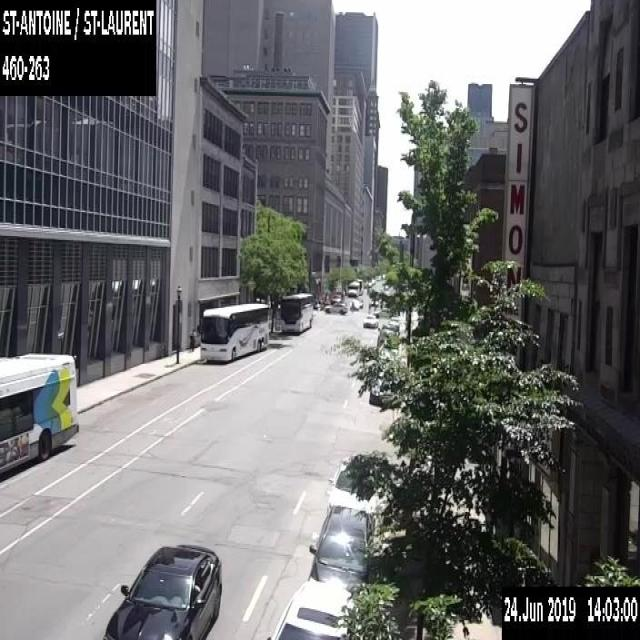bus: (0, 350, 80, 474), (198, 300, 270, 363), (279, 292, 313, 332)
pedestrian: (187, 327, 196, 353)
vehicle: (100, 541, 223, 639), (264, 574, 367, 639), (308, 504, 375, 596), (327, 457, 380, 514), (368, 368, 400, 406), (377, 328, 398, 349), (324, 301, 347, 313), (381, 322, 398, 335), (347, 280, 359, 297), (362, 314, 378, 326), (330, 292, 342, 303), (349, 299, 358, 309), (355, 296, 363, 307), (389, 316, 398, 325), (370, 297, 377, 305)
